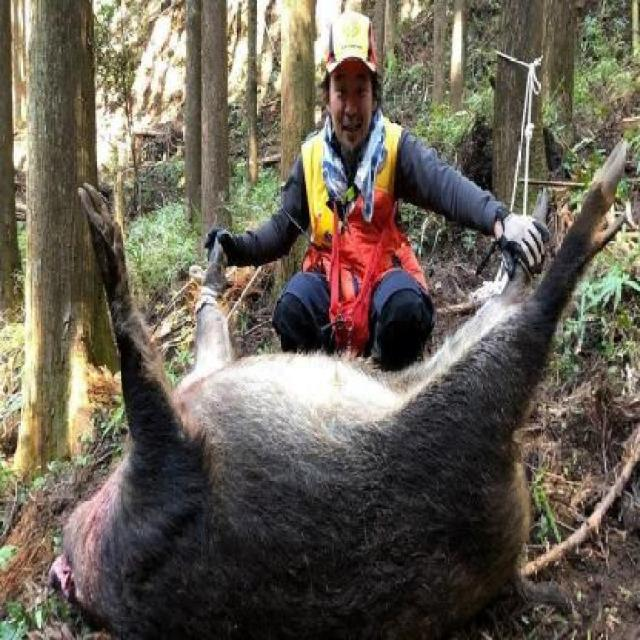wildboar: (38, 120, 634, 640)
